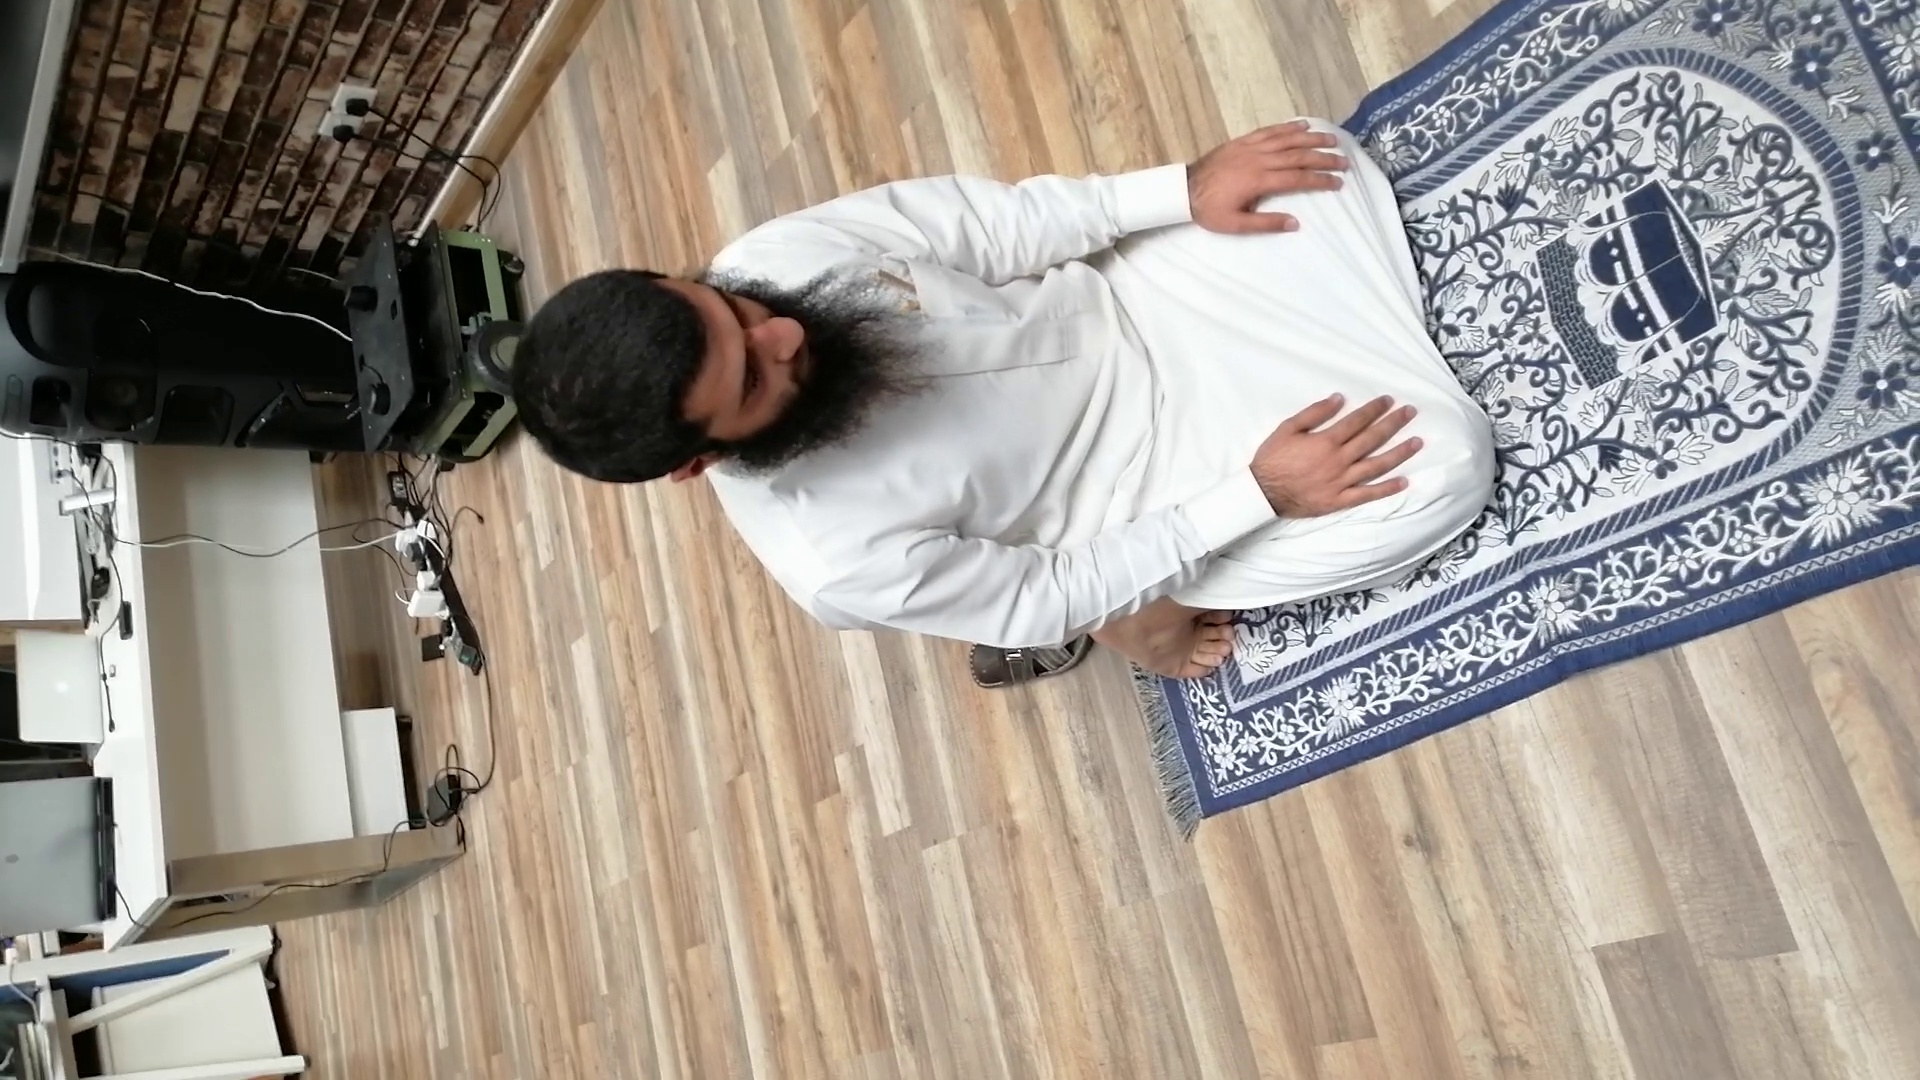sitting: (498, 88, 1520, 709)
